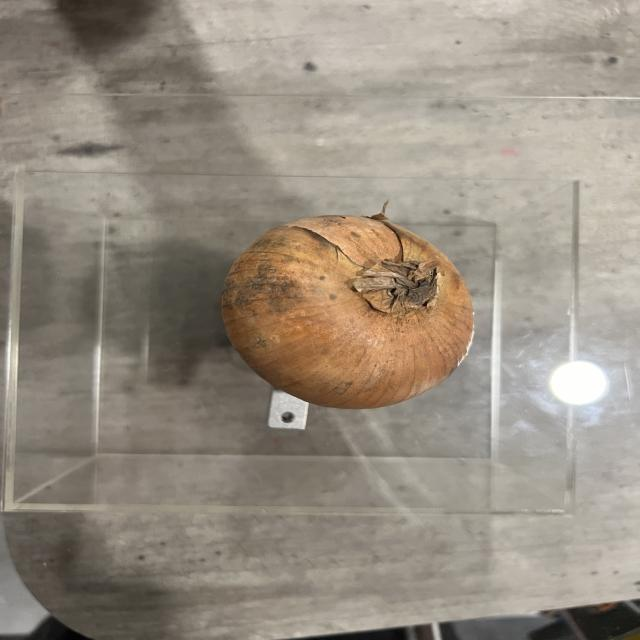onion: (227, 215, 469, 403)
